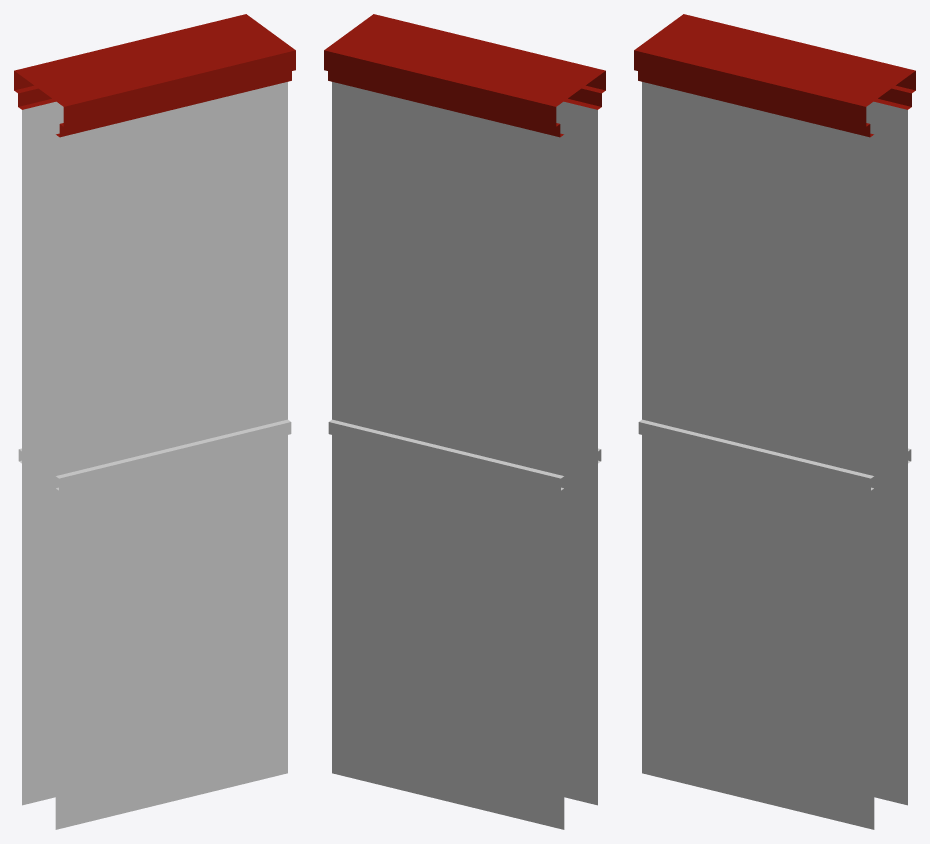
File: SM_Wall_Straight_02.fbx
3 renders of one model, left to right at view 1: azimuth 30°, elevation 25°; view 2: azimuth 150°, elevation 25°; view 3: azimuth 330°, elevation 25°, orthographic.
Parts seen in each view (by area): view 1: Down_Wall_02, Up_Wall_02, SM_Wall_Straight_02, Up_Wall_01, Down_Wall_01; view 2: Down_Wall_01, Up_Wall_01, SM_Wall_Straight_02, Up_Wall_02, Down_Wall_02; view 3: Down_Wall_02, Up_Wall_02, SM_Wall_Straight_02, Up_Wall_01, Down_Wall_01.
Part boxes in pixels (x1,y1,x2,y2): Down_Wall_02: (55,435,287,829); Up_Wall_02: (55,82,287,481); SM_Wall_Straight_02: (14,14,295,490); Up_Wall_01: (22,101,63,457); Down_Wall_01: (22,449,55,805); Down_Wall_01: (332,435,564,829); Up_Wall_01: (332,82,564,481); SM_Wall_Straight_02: (324,14,605,490); Up_Wall_02: (556,101,597,457); Down_Wall_02: (564,449,597,805); Down_Wall_02: (642,435,874,829); Up_Wall_02: (642,82,874,481); SM_Wall_Straight_02: (634,14,915,490); Up_Wall_01: (866,101,907,457); Down_Wall_01: (874,449,907,805).
Bounding box in the file's own units: 39.37 × 118 × 14.57.
